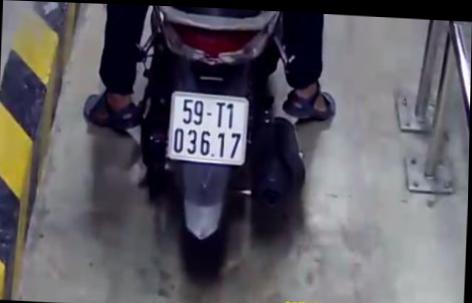LP: (167, 88, 251, 165)
